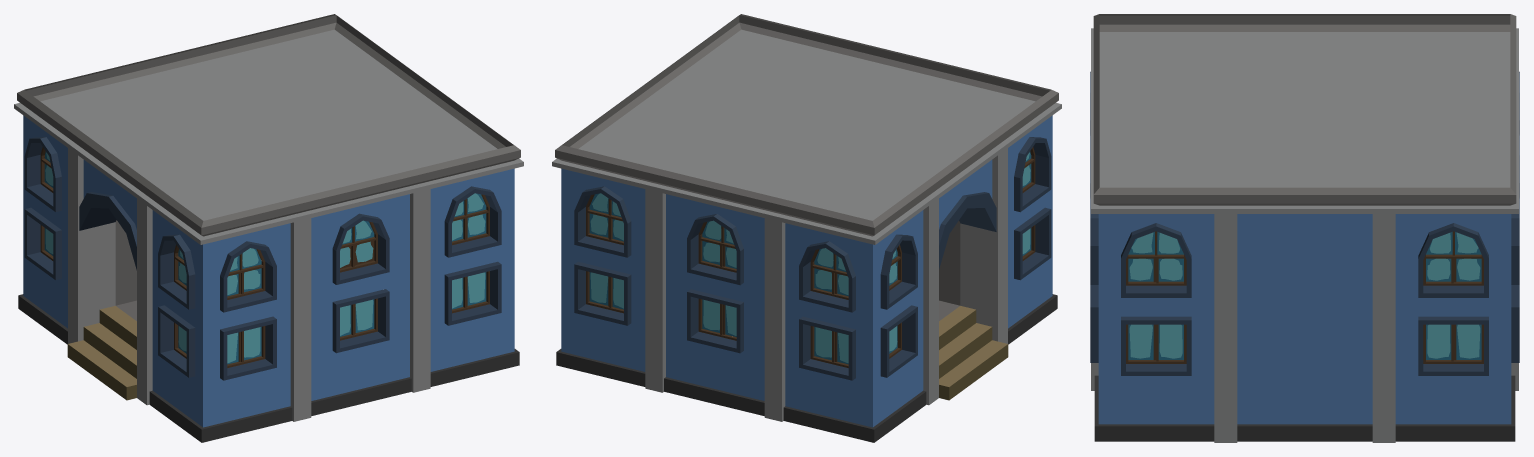
Rendered from Building_B_01.FBX.
The picture shows the model from 3 angles, left to right: view 1: azimuth 30°, elevation 25°; view 2: azimuth 150°, elevation 25°; view 3: azimuth 270°, elevation 25°; orthographic projection. The views are drawn at different scales.
Parts seen in each view (by area): view 1: Building_B_01; view 2: Building_B_01; view 3: Building_B_01.
Part boxes in pixels (box(x1,y1,x2,y2)): Building_B_01: box(14, 14, 523, 442); Building_B_01: box(552, 14, 1061, 442); Building_B_01: box(1090, 14, 1519, 442).
Bounding box in the file's own units: 5.25 × 3.3 × 5.1.
